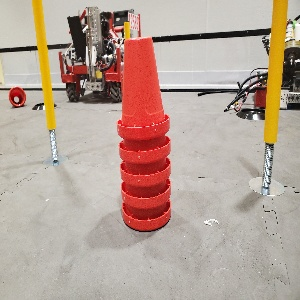Red_5: (113, 31, 174, 234)
